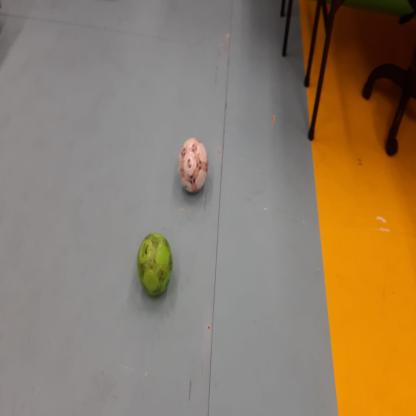ball: (138, 235, 172, 296), (178, 138, 208, 194)
